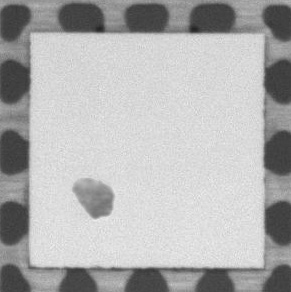DIE_INK: (70, 177, 112, 218)
